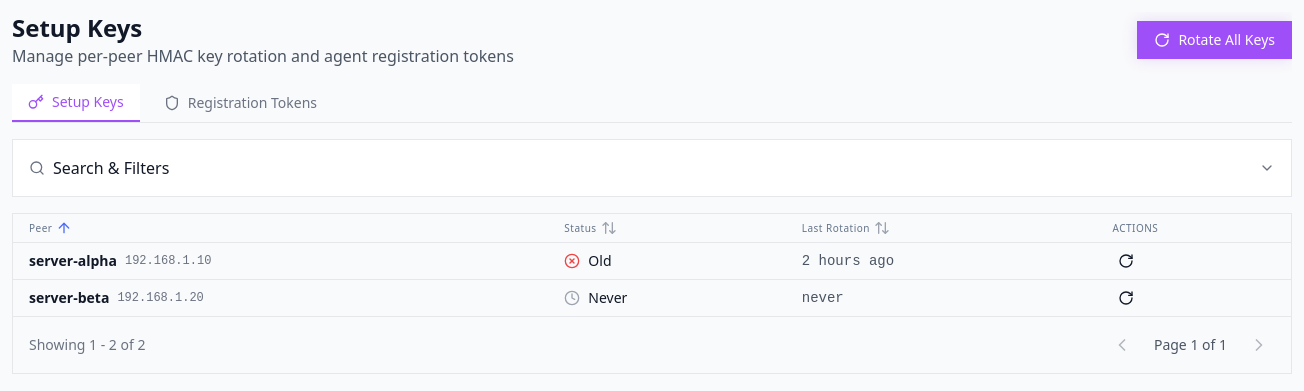
Scenario: SetupKeys Page › shows empty state when no tokens
The width and height of the screenshot is (1304, 391).
Click the button "Registration Tokens".
click(240, 103)  # box 148,84 -> 333,122
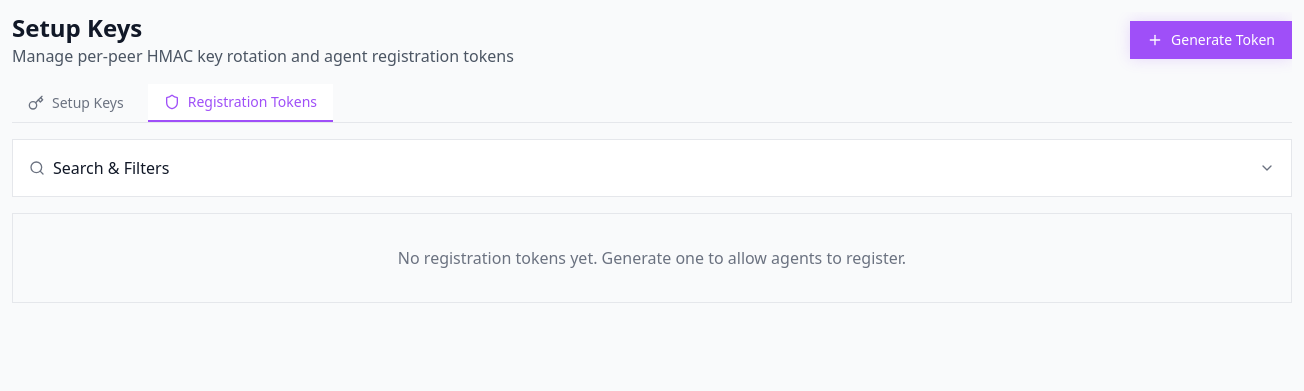
Now the text "No registration tokens yet. Generate one to allow agents to register." is shown, box 398,247 -> 906,269
